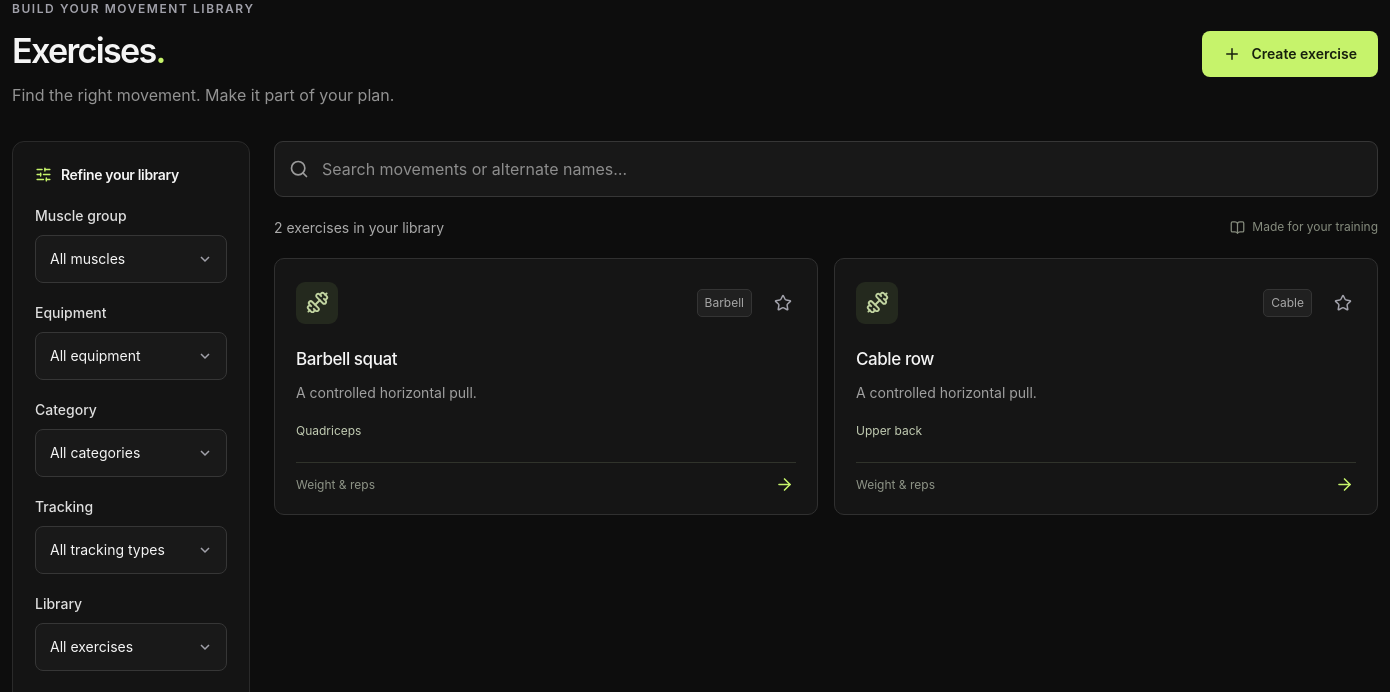
Test: Exercise library › searches alternate names and combines secondary-muscle and equipment filters
The image size is (1390, 692).
Expected: the heading "Old custom row" is not shown
In the field named "Search exercises": (842, 169) [322,147,1363,191], type "seated"
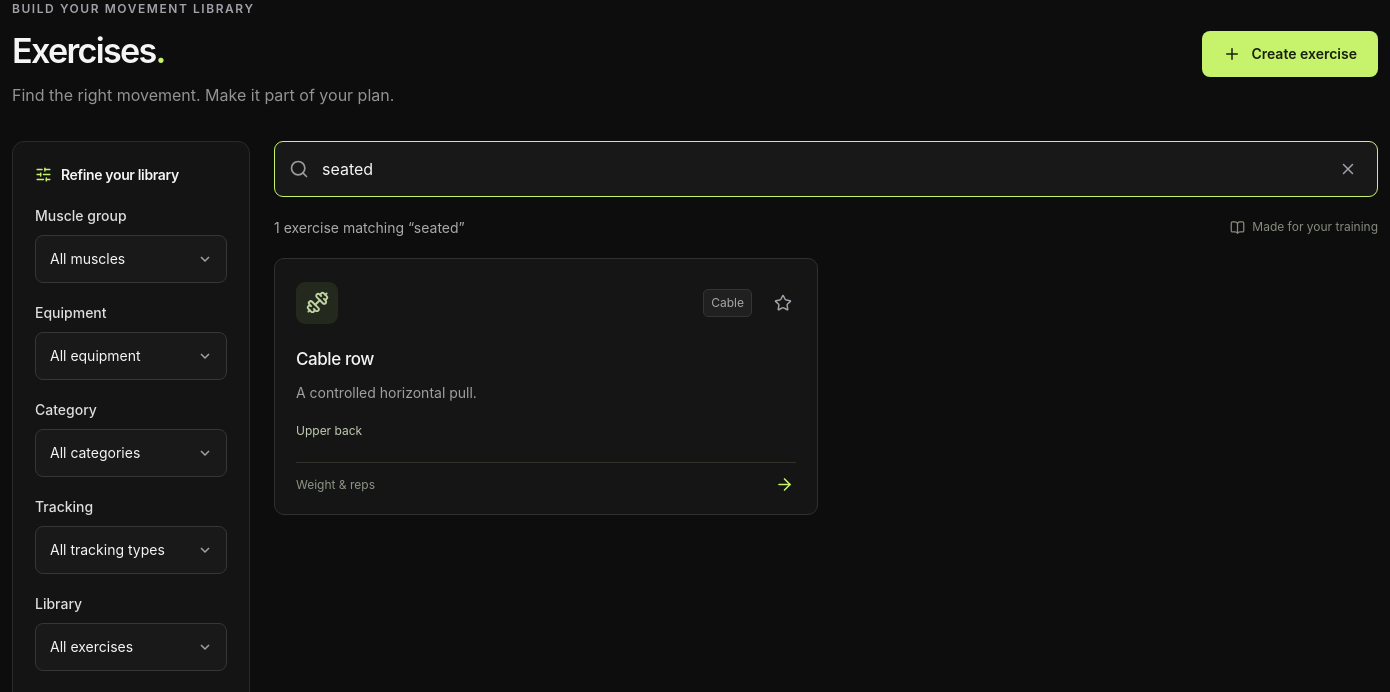
Expected: the heading "Cable row" is shown, [296,349,374,369]
Expected: the link "Barbell squat" is gone
Select "Biceps" in the dropdown labelled "Muscle group": (131, 259) [35,235,227,283]
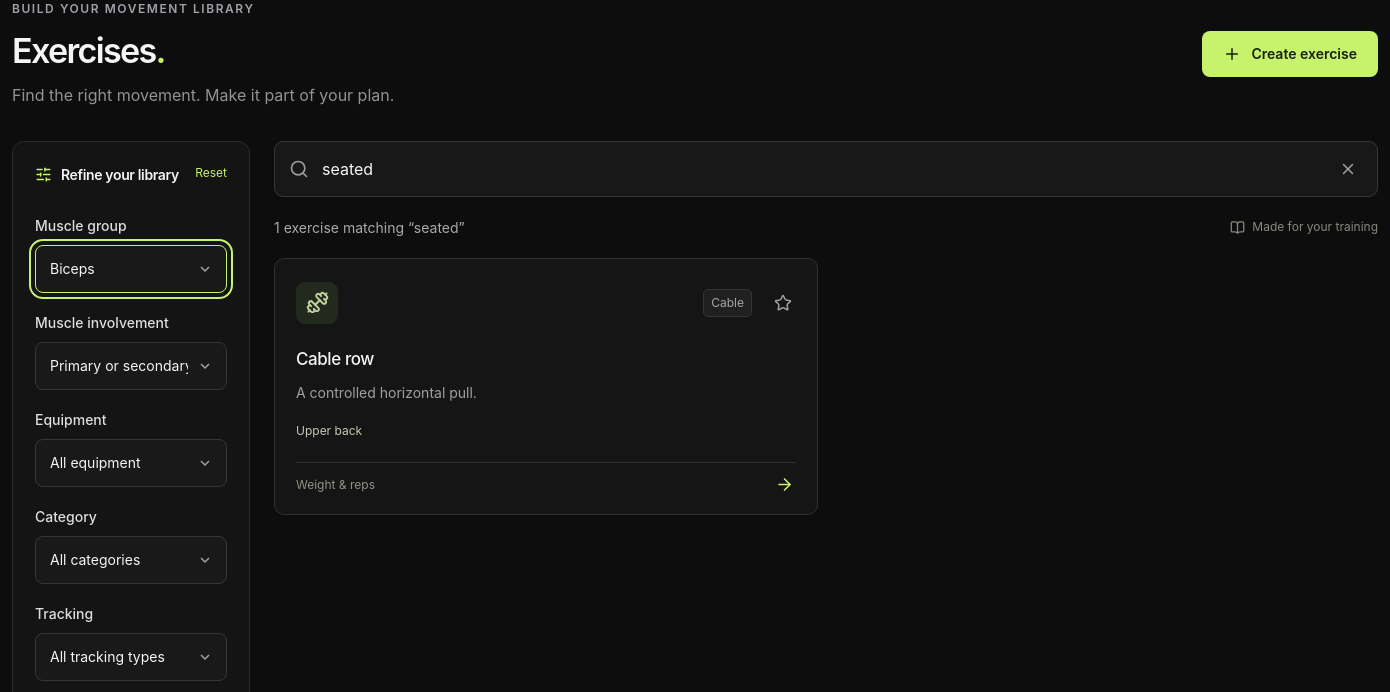
Select "Secondary muscle" in the dropdown labelled "Muscle involvement": (131, 366) [35,342,227,390]
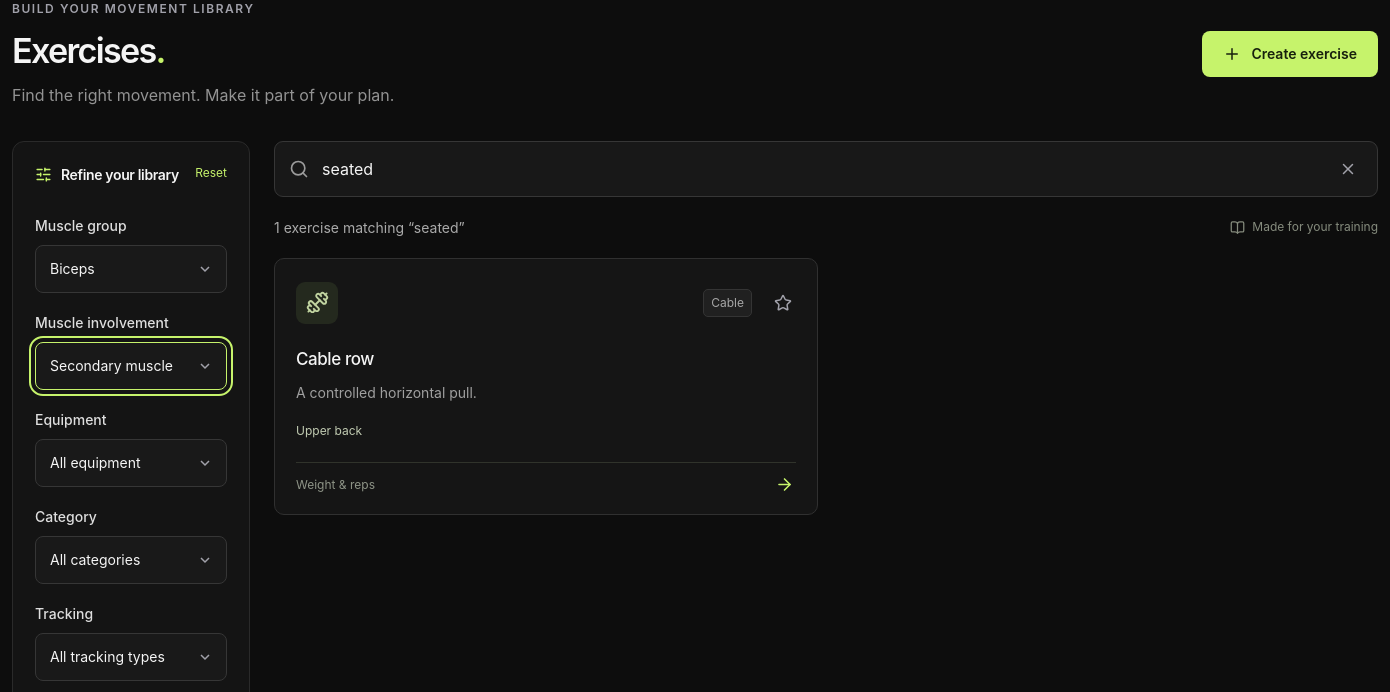
Select "Barbell" in the dropdown labelled "Equipment": (131, 463) [35,439,227,487]
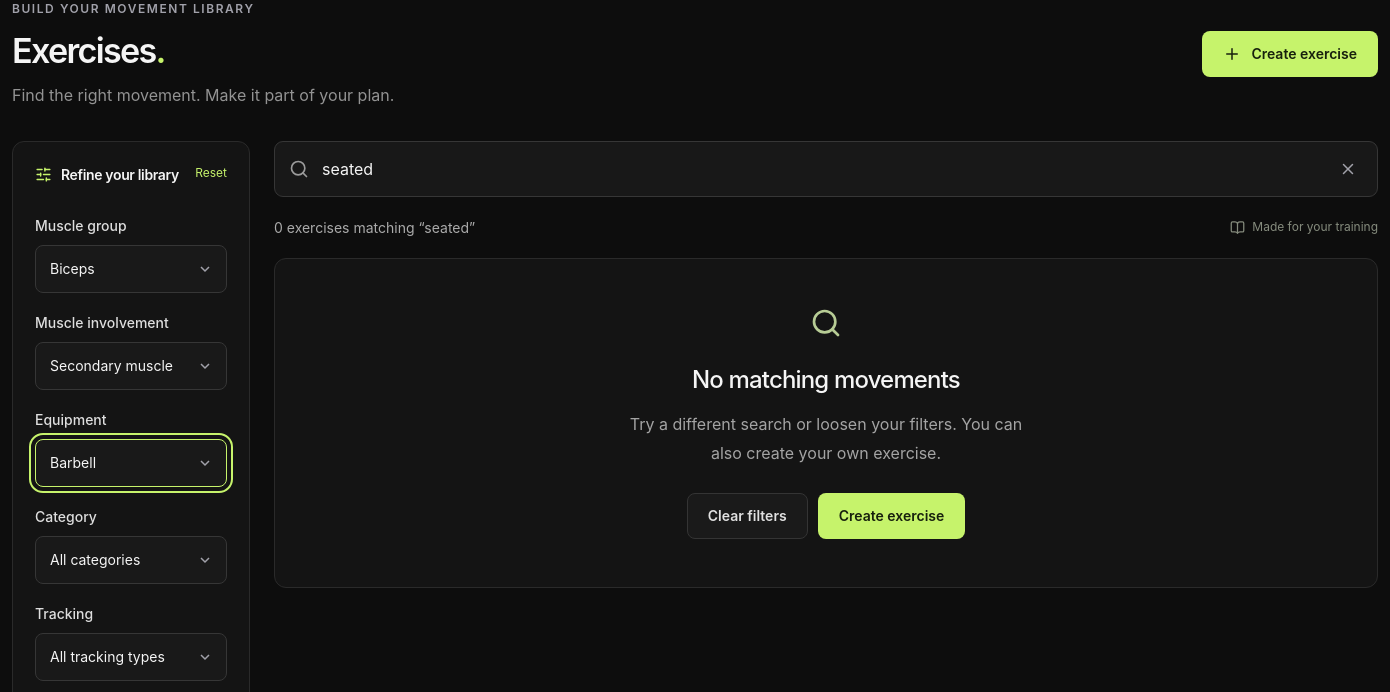
Expected: the heading "No matching movements" is shown, [692,362,960,398]
Click the button "Clear filters": (747, 516) [687,493,808,539]
(page scrolled)
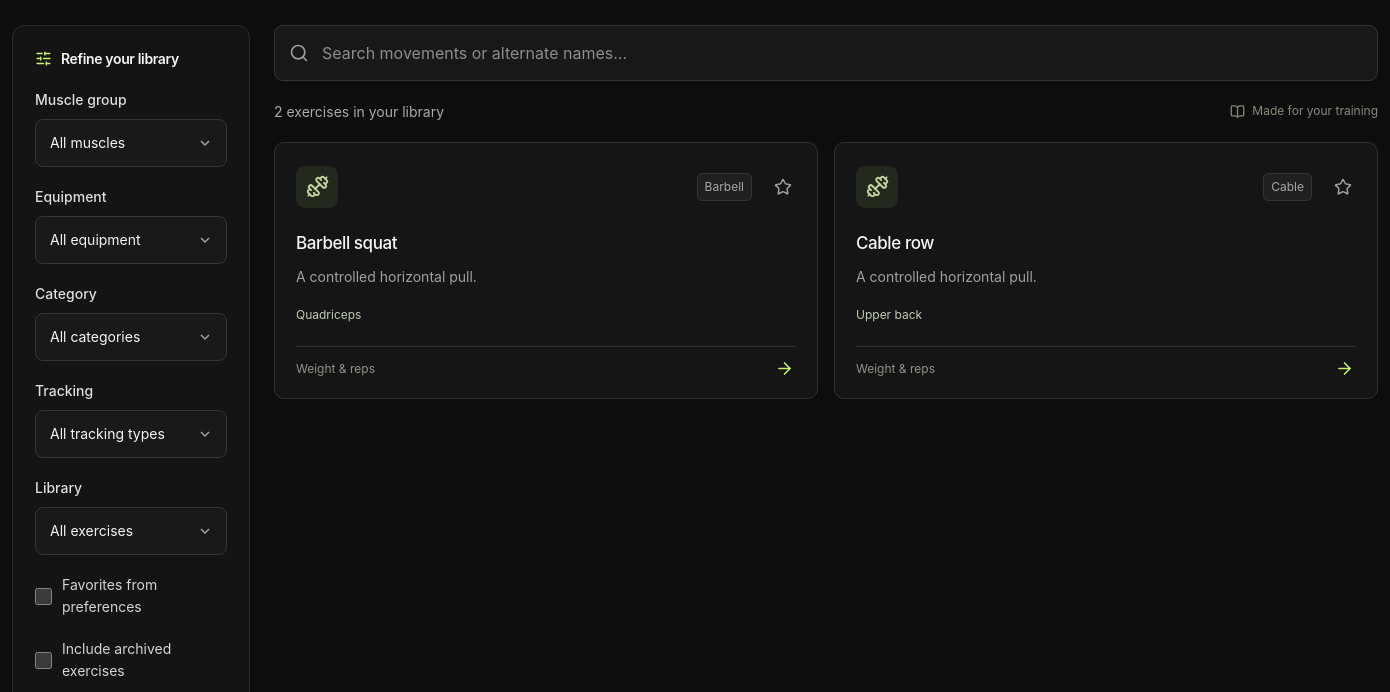
Expected: the heading "Barbell squat" is shown, [296,233,397,253]
Click the checkbox labelled "Include archived exercises": (44, 660) [35,652,52,668]
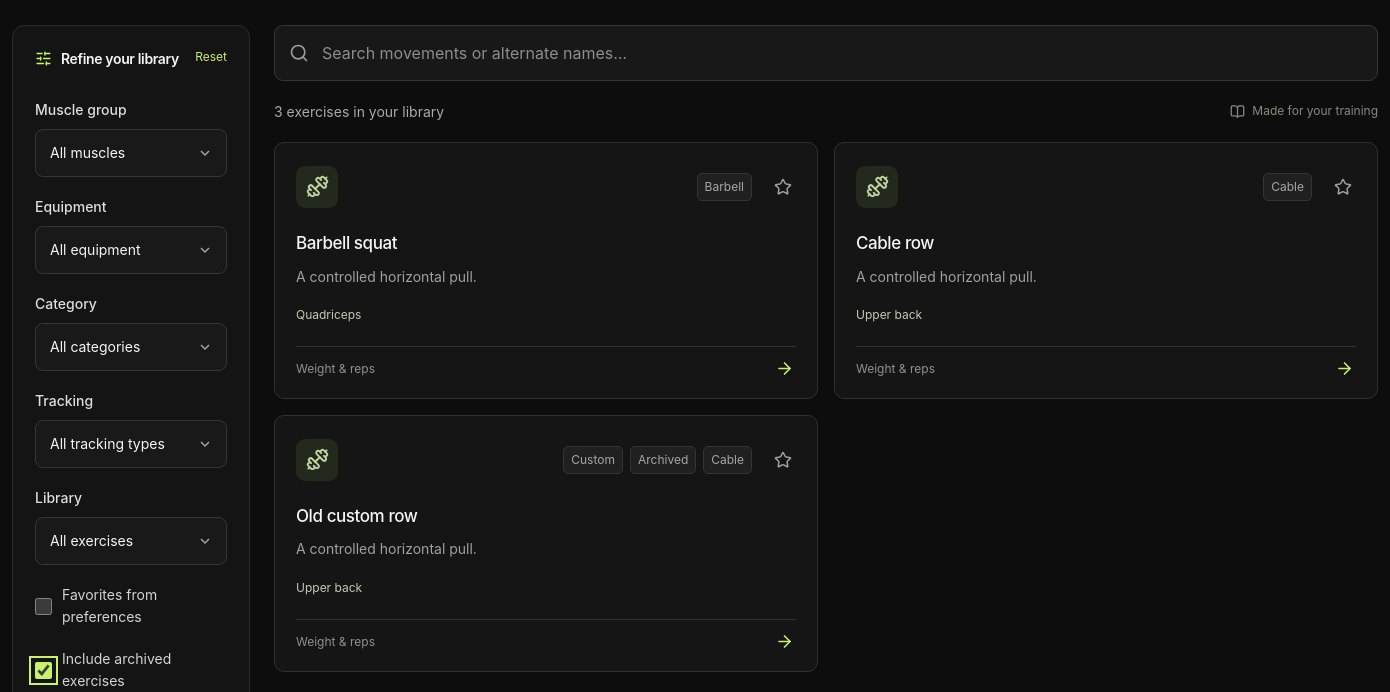
Expected: the heading "Old custom row" is shown, [296,506,418,526]
